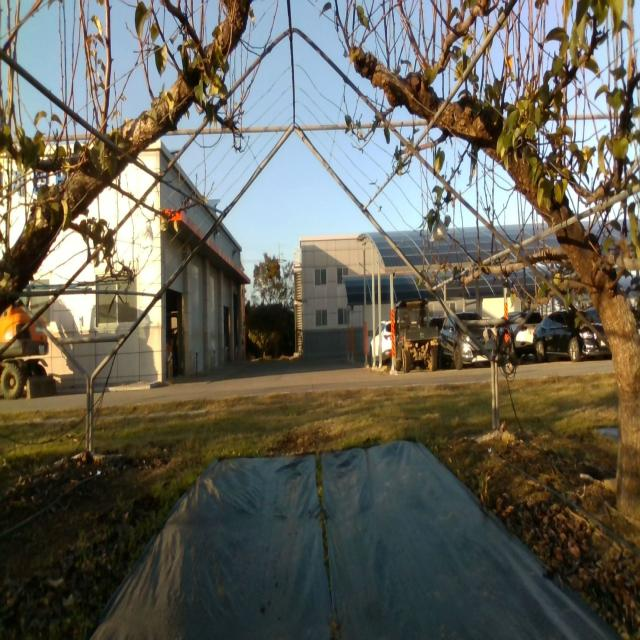pearbags: (429, 219, 449, 243), (140, 226, 154, 249)
